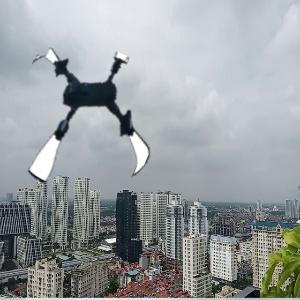drone: (11, 46, 162, 197)
